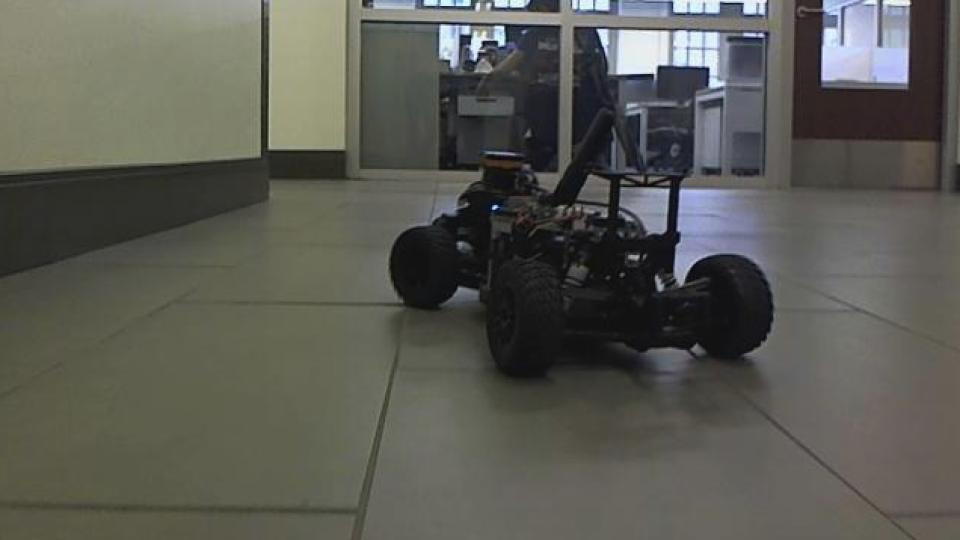car: (386, 103, 779, 380)
